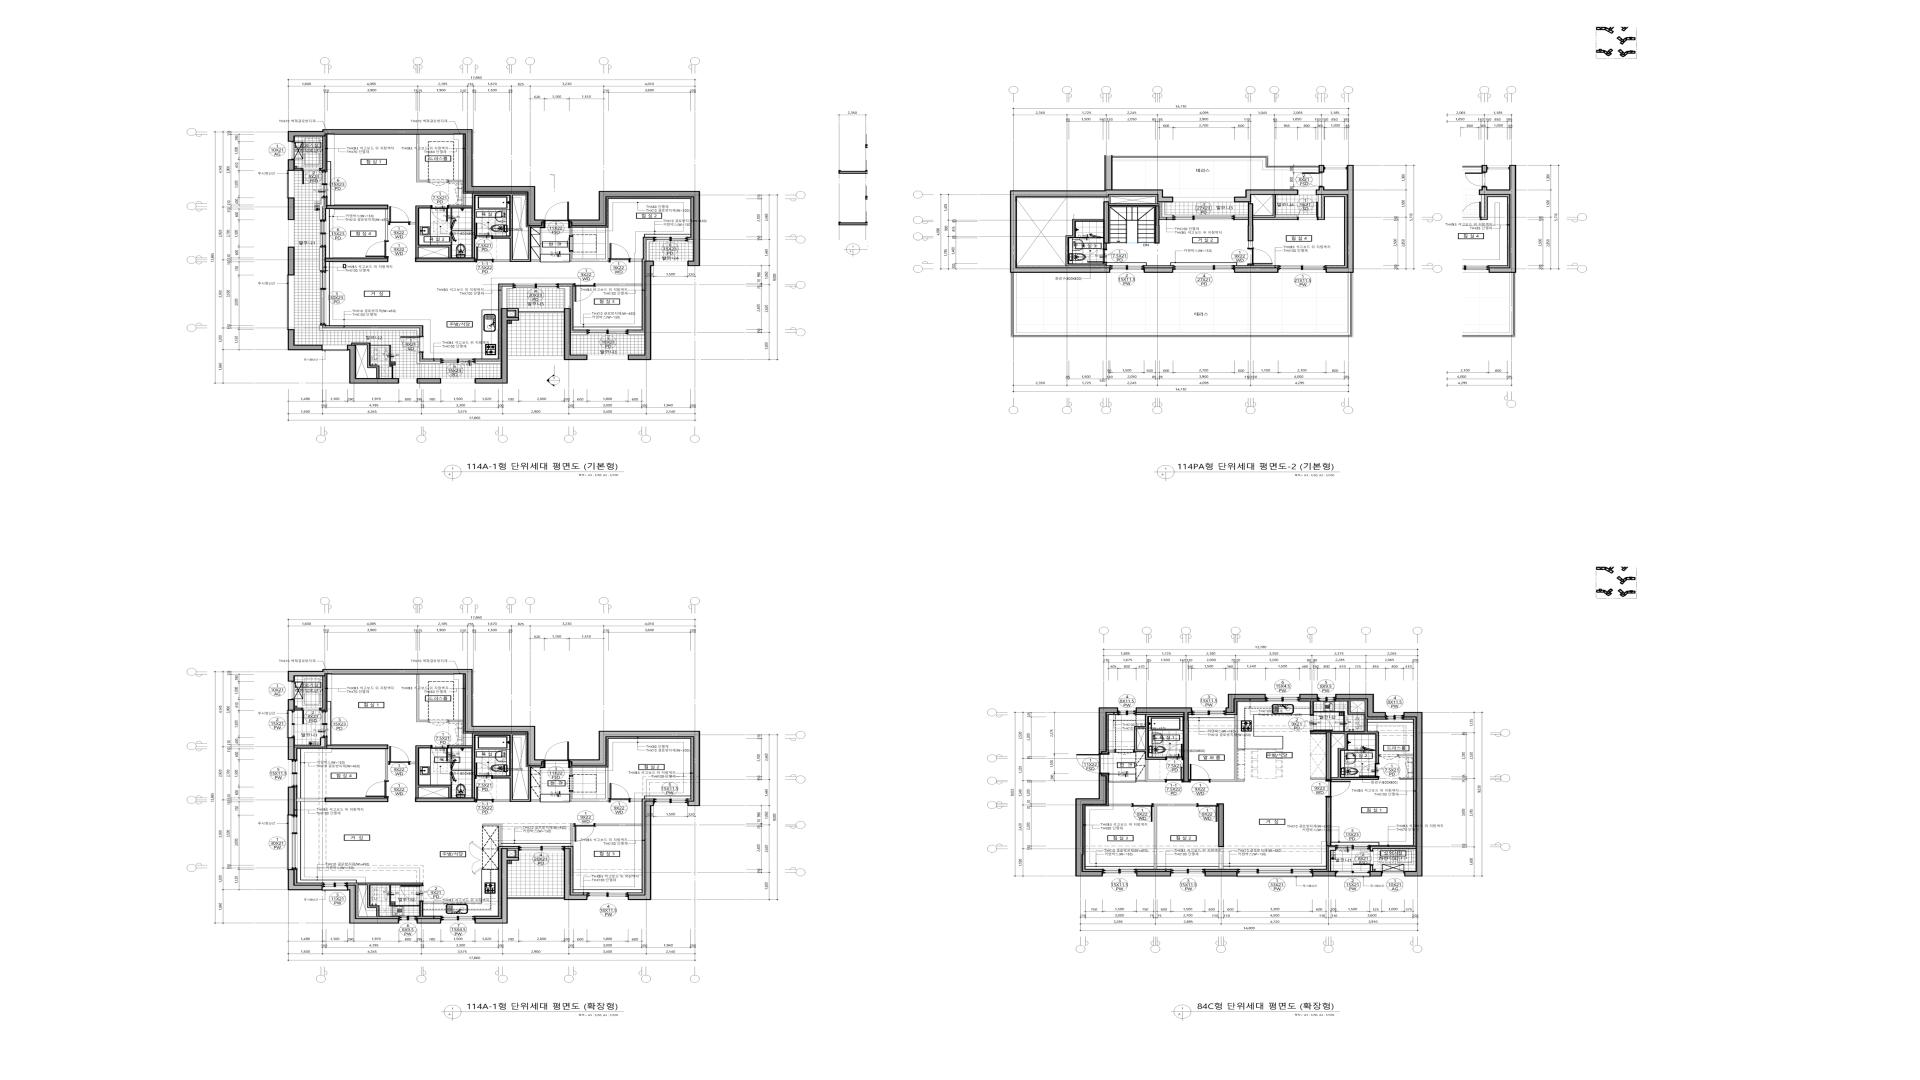door: (1076, 754, 1110, 774), (544, 742, 569, 768), (544, 203, 569, 228), (1326, 780, 1351, 798), (1247, 248, 1273, 265), (608, 783, 630, 803), (608, 243, 630, 263), (573, 283, 595, 302), (573, 823, 595, 842), (1132, 803, 1154, 822), (365, 241, 389, 258), (400, 336, 424, 353), (365, 781, 389, 798), (388, 206, 409, 225), (388, 746, 409, 765), (1189, 764, 1210, 783), (1197, 803, 1218, 822), (1310, 714, 1333, 731), (400, 886, 423, 902), (1298, 202, 1318, 220), (431, 205, 449, 222), (1087, 249, 1107, 264), (1353, 851, 1374, 865), (1359, 763, 1380, 777), (431, 745, 448, 762), (475, 247, 493, 263), (475, 223, 493, 239), (302, 168, 320, 184), (475, 787, 493, 803), (1165, 767, 1183, 783), (1165, 744, 1183, 760), (302, 708, 320, 724), (475, 763, 493, 779), (1302, 173, 1323, 186), (428, 719, 448, 726), (428, 180, 449, 186), (1379, 754, 1399, 760), (1115, 749, 1134, 755)
wall: (288, 669, 544, 766), (288, 129, 544, 226), (1011, 273, 1353, 337), (1010, 155, 1173, 273), (569, 731, 700, 806), (569, 191, 700, 266), (448, 733, 540, 802), (449, 193, 540, 262), (1136, 707, 1192, 782), (1316, 165, 1354, 273), (475, 848, 519, 924), (475, 308, 519, 384), (1075, 774, 1107, 877), (1134, 715, 1183, 782), (1404, 712, 1423, 876), (1113, 156, 1319, 170), (1332, 719, 1379, 780), (1154, 804, 1197, 869), (628, 801, 654, 900), (628, 261, 654, 360), (409, 745, 452, 798), (1210, 715, 1244, 782), (358, 883, 423, 917), (410, 206, 452, 257), (347, 885, 399, 924), (347, 345, 399, 384), (1066, 219, 1107, 266), (570, 768, 608, 802), (570, 228, 608, 262), (564, 848, 588, 900), (1335, 694, 1386, 718), (564, 308, 587, 360), (319, 325, 420, 336), (1253, 195, 1297, 218), (351, 343, 379, 378), (1099, 707, 1118, 754), (1234, 189, 1299, 202), (287, 329, 322, 351), (1226, 694, 1266, 713), (288, 869, 322, 891), (416, 135, 428, 182), (416, 675, 428, 722), (482, 824, 501, 846), (326, 744, 388, 749), (327, 205, 388, 210), (1326, 731, 1332, 780), (1326, 798, 1332, 846), (416, 353, 441, 364), (295, 738, 325, 747), (1234, 267, 1279, 273), (501, 286, 513, 308), (1218, 803, 1224, 847), (1103, 201, 1109, 244), (324, 798, 388, 802), (1347, 701, 1365, 715), (326, 258, 388, 262), (559, 286, 570, 308), (415, 798, 475, 802), (415, 258, 475, 262), (1248, 203, 1254, 241), (508, 896, 564, 900), (1136, 871, 1171, 877), (287, 787, 294, 816), (288, 247, 295, 276), (1205, 871, 1238, 877), (1328, 847, 1336, 871), (1155, 206, 1160, 244), (1370, 847, 1416, 851), (1162, 202, 1173, 218), (320, 676, 325, 711), (1144, 267, 1173, 273), (320, 137, 325, 171), (288, 738, 295, 760), (288, 198, 295, 220), (416, 918, 441, 924), (1109, 203, 1159, 206), (646, 240, 653, 261), (417, 378, 441, 384), (1312, 871, 1336, 877), (319, 198, 324, 220), (297, 798, 324, 802), (508, 848, 519, 857), (508, 308, 519, 317), (319, 247, 323, 271), (385, 749, 388, 781), (1299, 694, 1318, 699), (595, 824, 642, 826), (595, 284, 642, 286), (385, 210, 388, 241), (1318, 195, 1322, 218), (1219, 847, 1223, 869), (288, 699, 295, 711), (288, 159, 295, 171), (475, 361, 501, 364), (1370, 871, 1382, 877), (570, 824, 573, 846), (419, 902, 423, 917), (1310, 701, 1314, 714), (571, 332, 587, 335), (1310, 731, 1326, 734), (1109, 804, 1132, 806), (1319, 165, 1324, 173), (630, 799, 642, 802), (630, 259, 642, 262), (1248, 241, 1253, 248), (1310, 778, 1326, 780), (449, 180, 463, 182), (449, 720, 463, 722), (1235, 215, 1248, 217), (1400, 778, 1413, 780), (295, 708, 302, 711), (295, 168, 302, 171), (1103, 244, 1107, 249), (570, 767, 572, 776), (1370, 865, 1373, 871), (1109, 750, 1115, 753), (570, 228, 572, 236), (1104, 198, 1109, 201), (1399, 755, 1413, 756), (688, 240, 693, 242)
window: (1238, 869, 1312, 877), (287, 816, 297, 869), (1173, 265, 1234, 272), (1279, 265, 1326, 273), (287, 276, 294, 329), (587, 892, 628, 900), (320, 271, 326, 325), (519, 846, 564, 853), (1173, 215, 1235, 220), (1173, 197, 1234, 202), (513, 283, 559, 289), (654, 798, 687, 806), (1266, 694, 1299, 702), (587, 329, 628, 335), (288, 760, 297, 787), (441, 916, 475, 923), (1110, 265, 1144, 272), (1192, 708, 1226, 715), (1171, 869, 1205, 876), (1103, 869, 1136, 876), (508, 356, 564, 360), (286, 171, 294, 198), (287, 711, 295, 737), (441, 358, 475, 364), (1336, 871, 1370, 877), (587, 355, 627, 360), (323, 883, 347, 891), (320, 711, 327, 738), (519, 309, 564, 313), (653, 237, 688, 242), (1336, 845, 1370, 850), (654, 261, 687, 266), (321, 171, 327, 198), (320, 220, 326, 247), (288, 220, 294, 247), (322, 345, 347, 351), (1318, 694, 1335, 702), (441, 379, 474, 383), (1118, 708, 1136, 715), (399, 916, 416, 923), (1325, 165, 1347, 170), (1382, 871, 1404, 876), (288, 142, 294, 159), (288, 682, 294, 699), (1386, 715, 1404, 720), (1299, 190, 1316, 195), (399, 379, 416, 383)
